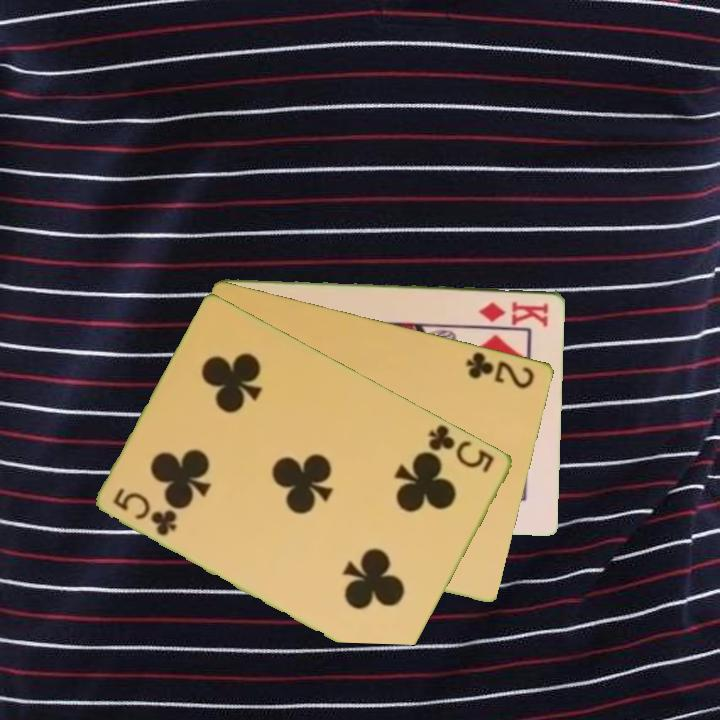2c: (463, 348, 538, 392)
5c: (424, 420, 498, 476), (110, 484, 181, 539)
Kd: (475, 298, 552, 327)
